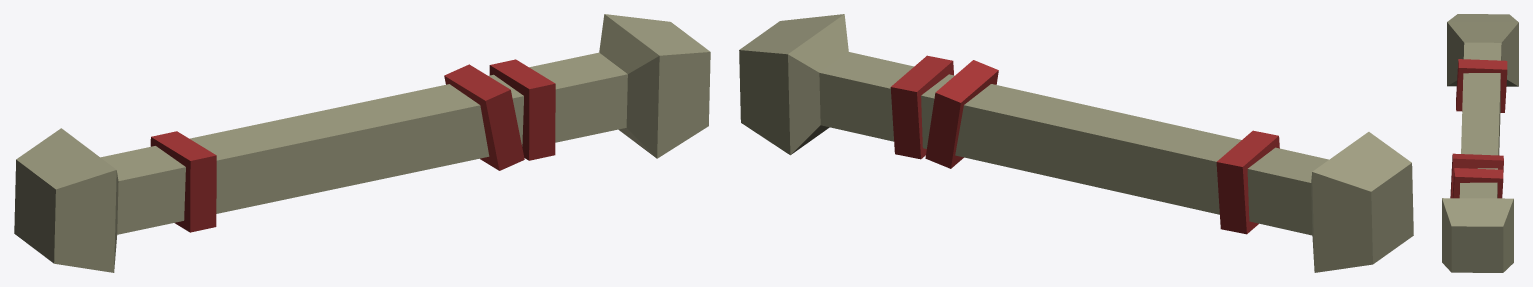
The model's file is SF_Bld_Goblin_Bone_01.fbx.
3 views of the same model, side by side, from view 1: azimuth 30°, elevation 25°; view 2: azimuth 150°, elevation 25°; view 3: azimuth 270°, elevation 25° (orthographic). The views are drawn at different scales.
Parts seen in each view (by area): view 1: SF_Bld_Goblin_Bone_01; view 2: SF_Bld_Goblin_Bone_01; view 3: SF_Bld_Goblin_Bone_01.
Boxes of the visible parts, left/top/right/bottom form: SF_Bld_Goblin_Bone_01: left=14, top=14, right=710, bottom=272; SF_Bld_Goblin_Bone_01: left=739, top=14, right=1413, bottom=272; SF_Bld_Goblin_Bone_01: left=1442, top=14, right=1518, bottom=272.
Size of the model in its own units: 7.59 by 1.3 by 1.22.
